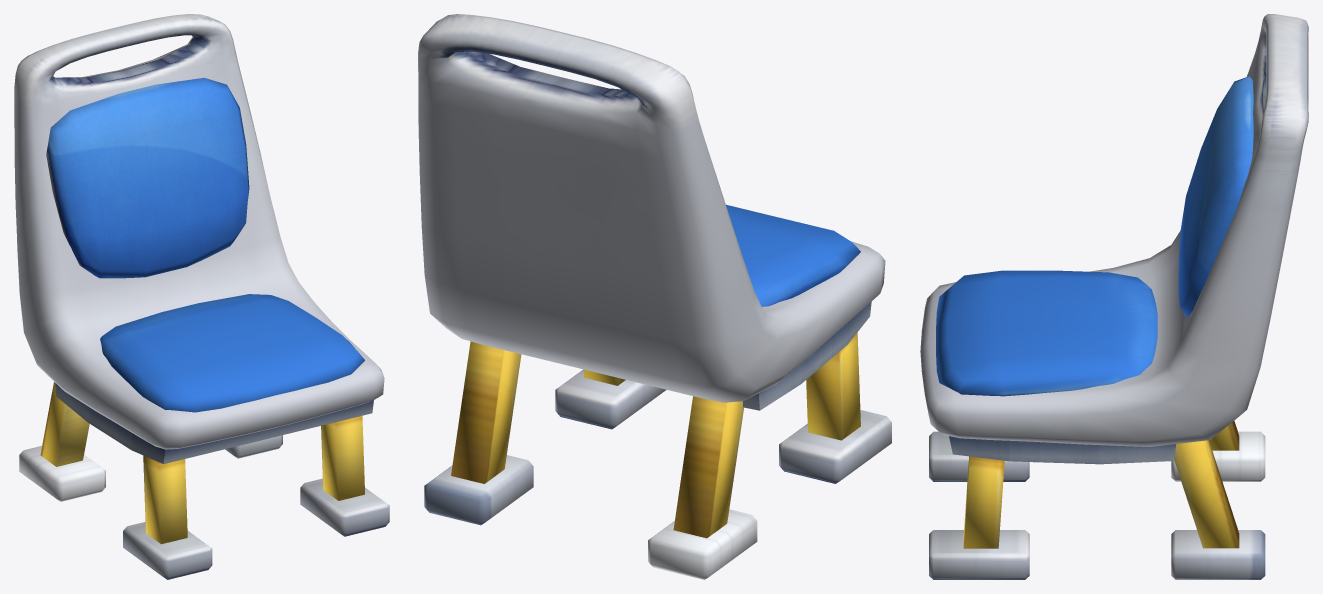
Rendered from ChairLV2_Good.fbx.
3 renders of one model, left to right at view 1: azimuth 30°, elevation 25°; view 2: azimuth 150°, elevation 25°; view 3: azimuth 270°, elevation 25°, orthographic. The views are drawn at different scales.
Parts seen in each view (by area): view 1: ChairLv2; view 2: ChairLv2; view 3: ChairLv2.
Part boxes in pixels (bbox=[...]): ChairLv2: bbox=[14, 14, 389, 579]; ChairLv2: bbox=[418, 14, 891, 579]; ChairLv2: bbox=[920, 14, 1308, 579].
Bounding box in the file's own units: 84.01 × 134 × 101.
